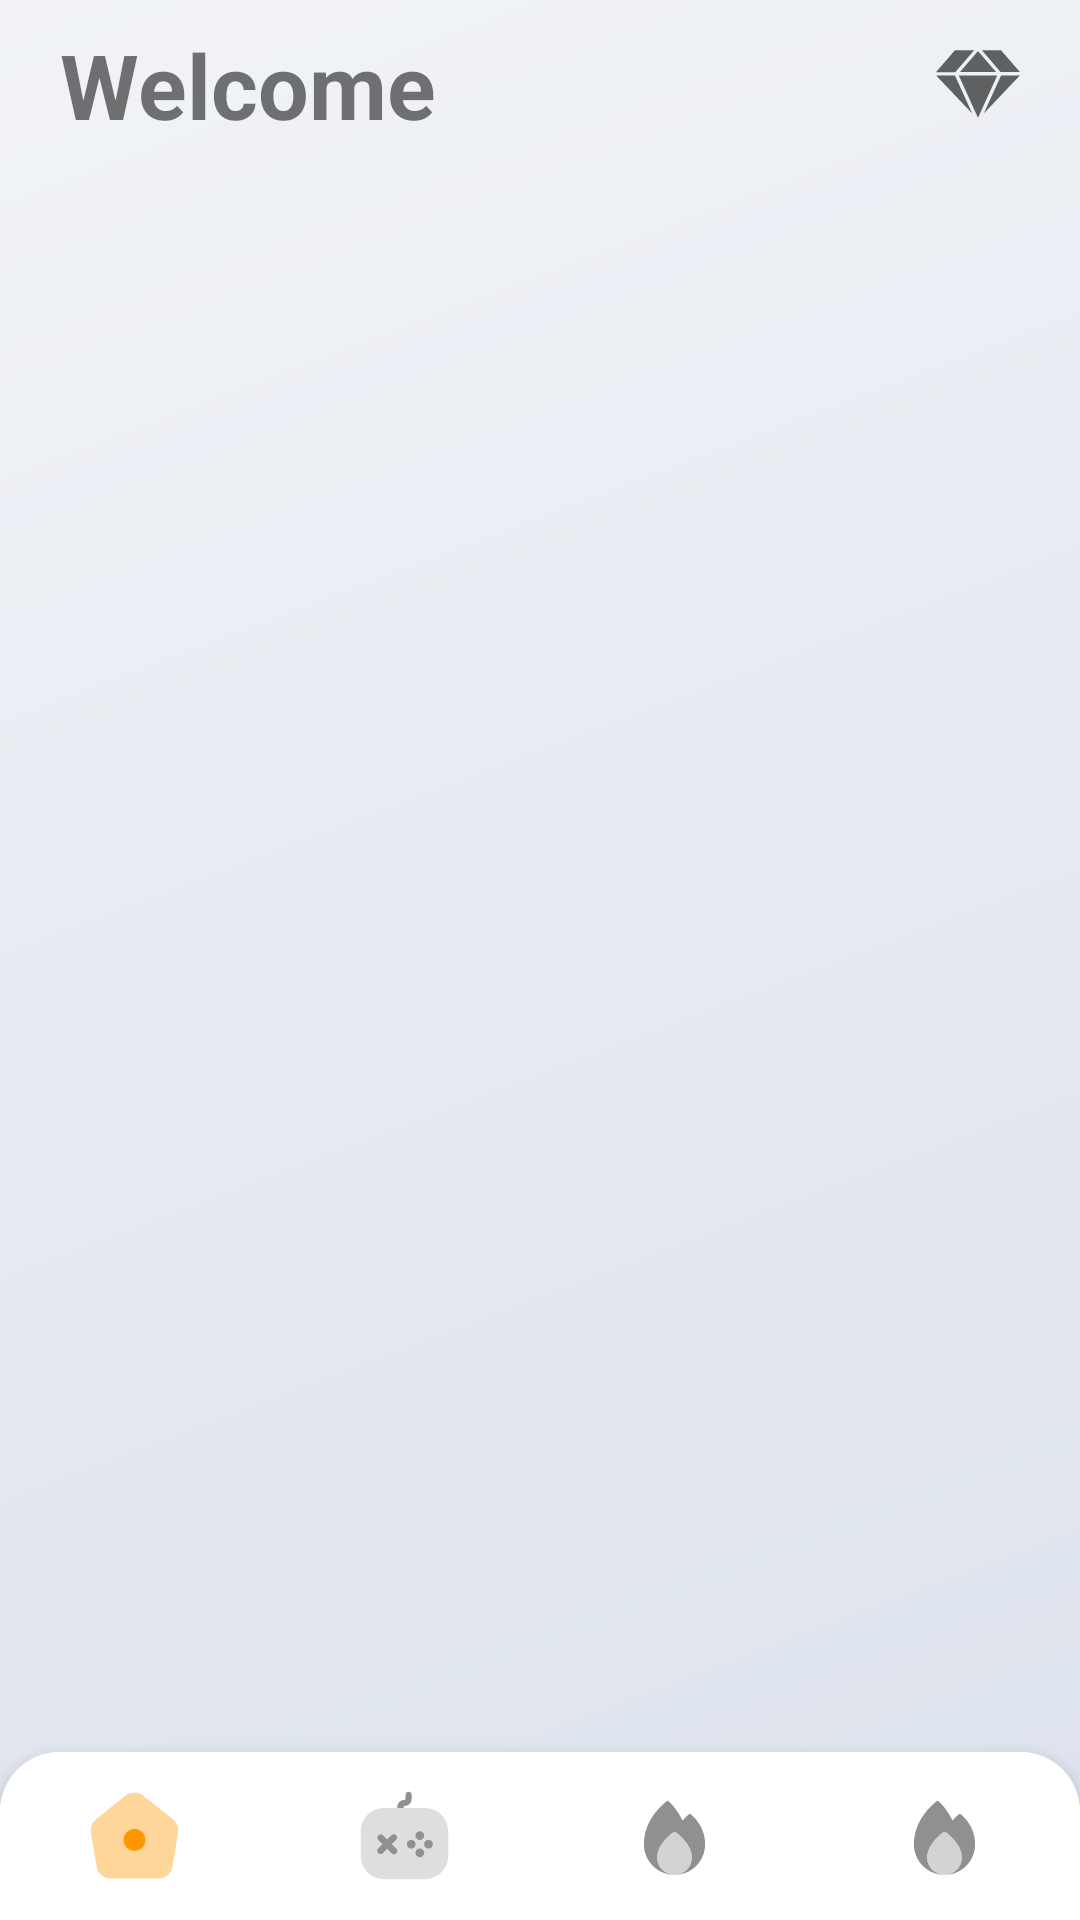

Screen size 1080px x 1920px. Icon name, then its center in pixels as point (x, y):
premium: point (978, 83)
